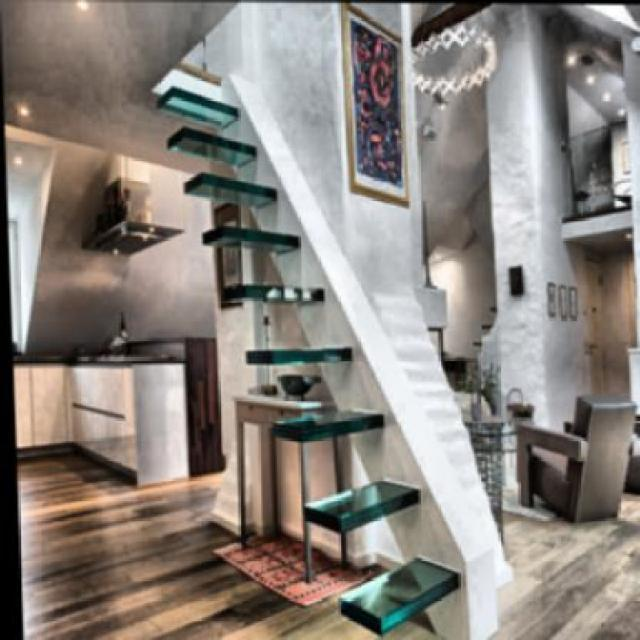stair: (158, 81, 458, 637)
